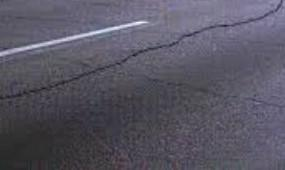crack: (6, 15, 265, 83)
